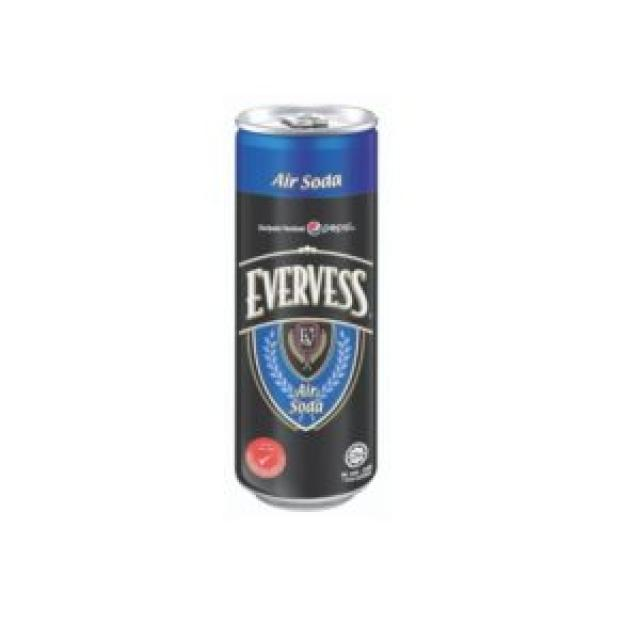Cans: (230, 98, 382, 514)
